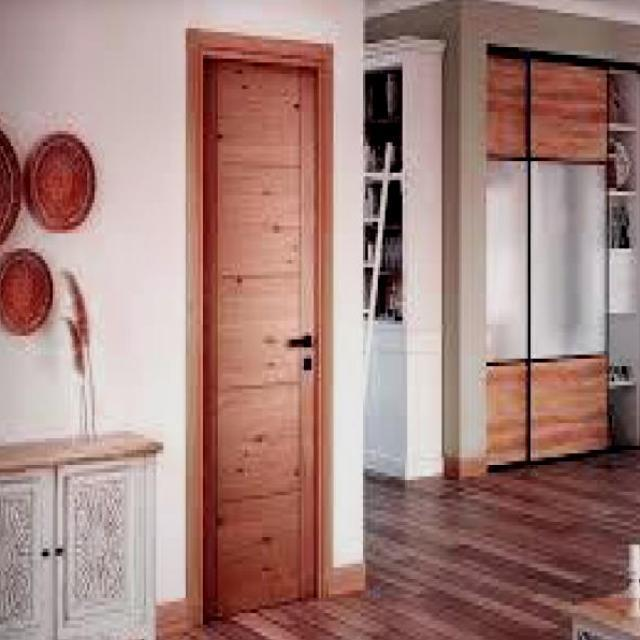door: (199, 45, 325, 621)
